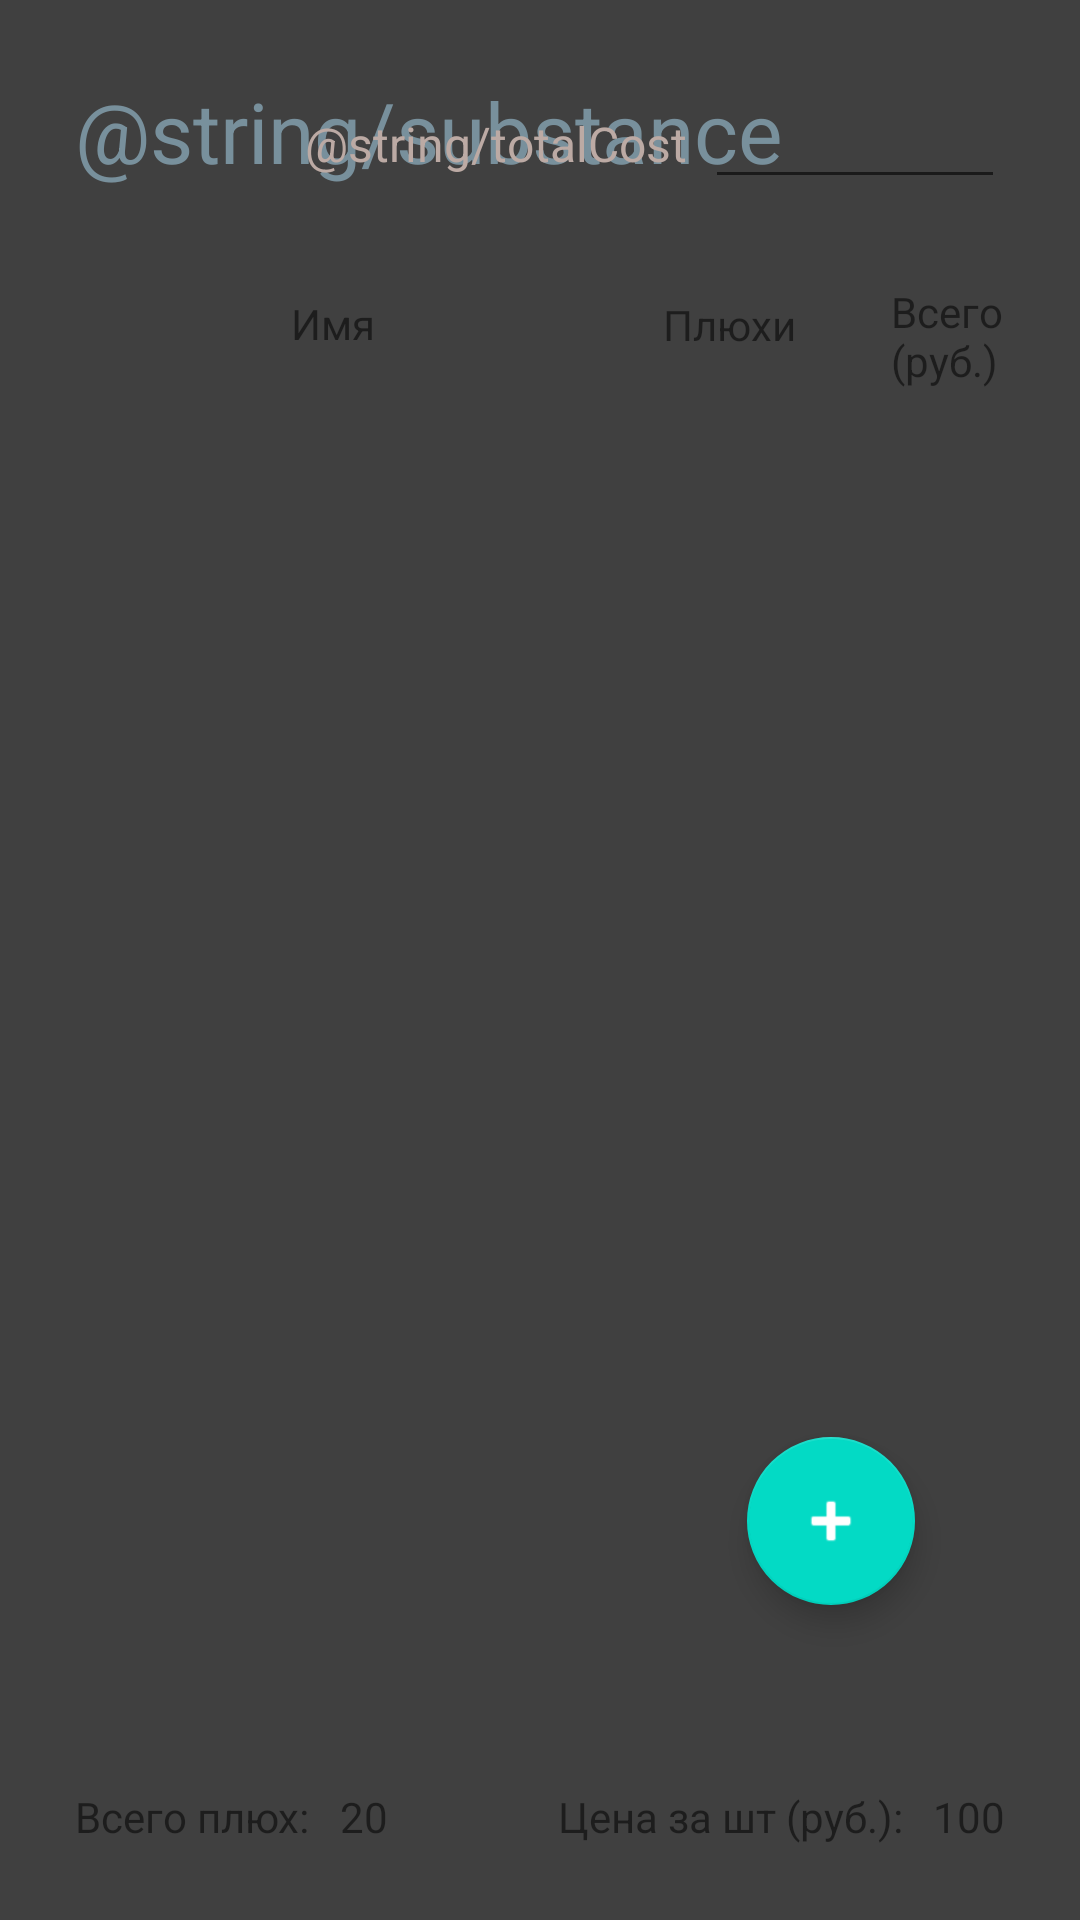

Icon click points for this 1080×1920 phone screenshot, format (x=x, y=y):
add: (x=831, y=1521)
